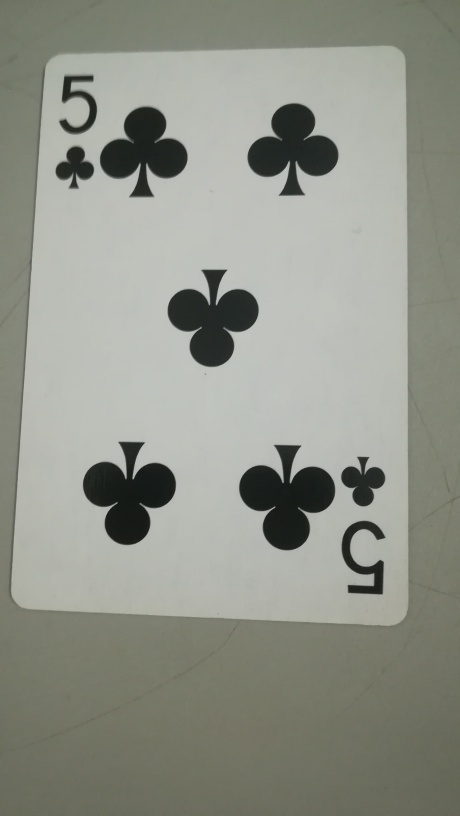mh 5: (9, 42, 412, 628)
